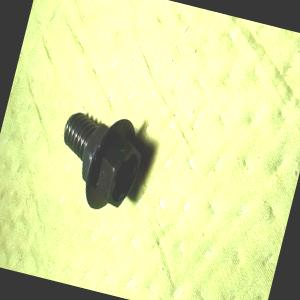parafuso: (46, 103, 150, 218)
